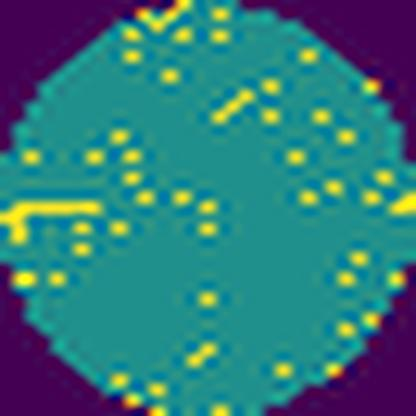Scratch: (0, 193, 108, 247), (206, 85, 262, 131)
